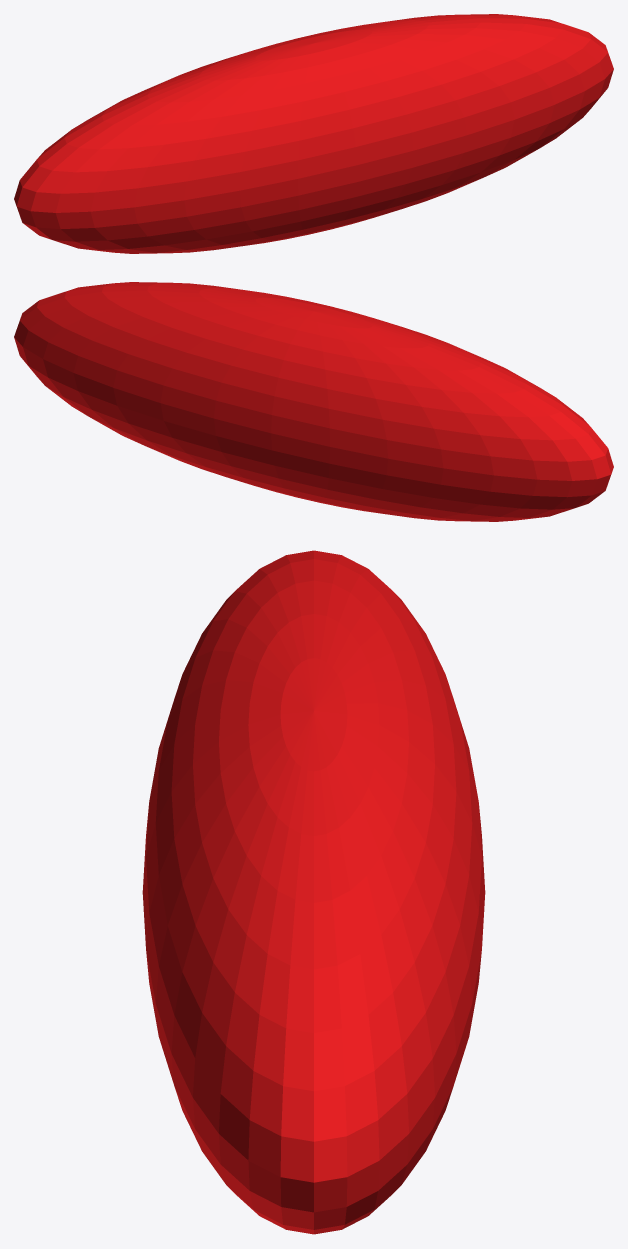
Rendered from coffee_plant.dae.
3 views of the same model, one above another, from view 1: azimuth 30°, elevation 25°; view 2: azimuth 150°, elevation 25°; view 3: azimuth 270°, elevation 25° (orthographic). The views are drawn at different scales.
Parts seen in each view (by area): view 1: Sphere; view 2: Sphere; view 3: Sphere.
Boxes of the visible parts, bbox=[...] form: Sphere: bbox=[14, 14, 613, 253]; Sphere: bbox=[14, 282, 613, 521]; Sphere: bbox=[142, 550, 485, 1234].
Bounding box in the file's own units: 1.03 × 0.2568 × 0.2999.
